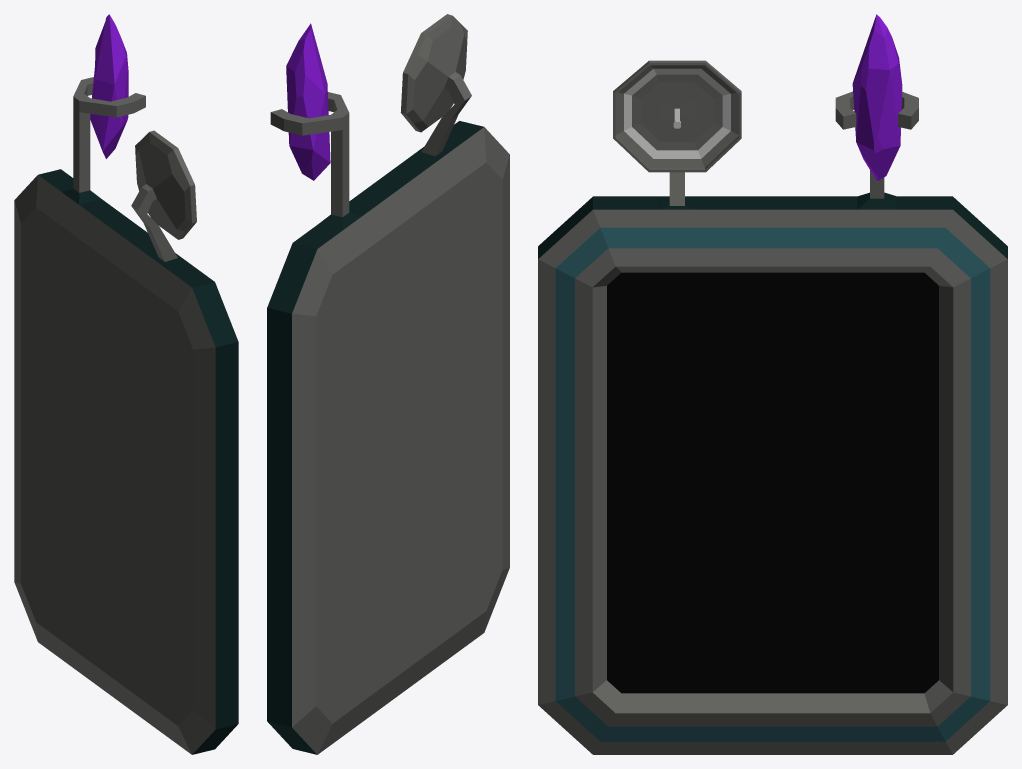
Rendered from TRADUOFINALFA.fbx.
The picture shows the model from 3 angles, left to right: view 1: azimuth 30°, elevation 25°; view 2: azimuth 150°, elevation 25°; view 3: azimuth 270°, elevation 25°; orthographic projection. The views are drawn at different scales.
Parts seen in each view (by area): view 1: tradutor; view 2: tradutor; view 3: tradutor.
Part boxes in pixels (x1,y1,x2,y2): tradutor: [14, 14, 238, 754]; tradutor: [267, 14, 509, 754]; tradutor: [538, 14, 1007, 754].
Bounding box in the file's own units: 0.8533 × 6.34 × 3.6.
